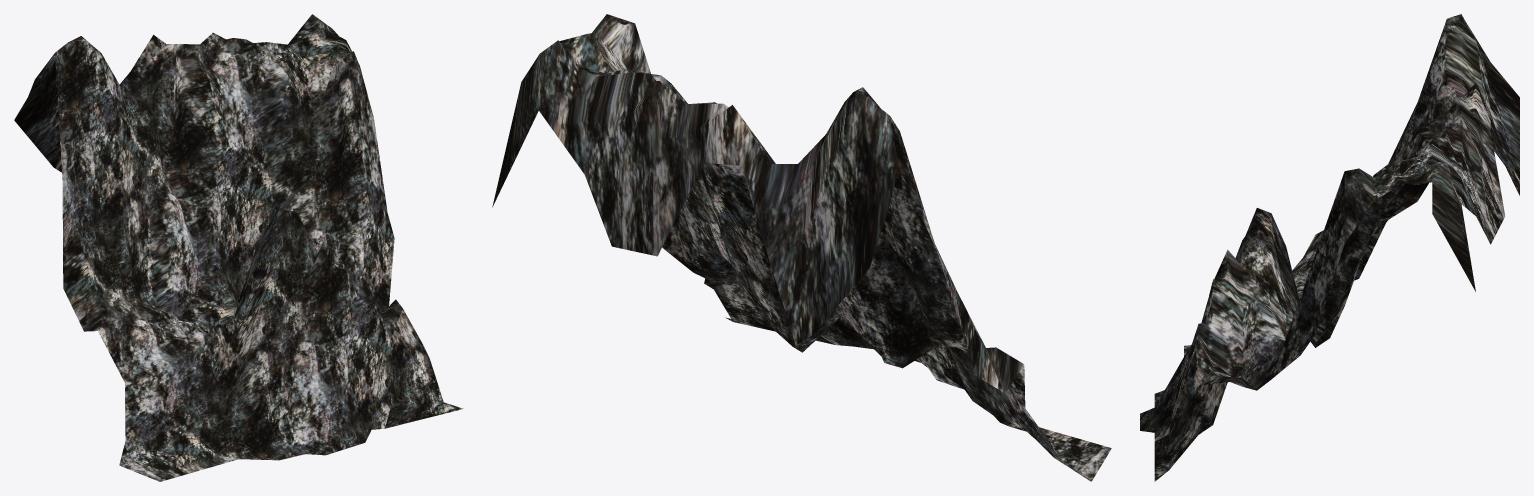
File: OVERHILL_A_01_OBJECT12.fbx
3 views of the same model, side by side, from view 1: azimuth 30°, elevation 25°; view 2: azimuth 150°, elevation 25°; view 3: azimuth 270°, elevation 25° (orthographic). The views are drawn at different scales.
Visible parts, largest first — view 1: OVERHILL_A_01_OBJECT12; view 2: OVERHILL_A_01_OBJECT12; view 3: OVERHILL_A_01_OBJECT12.
Part boxes in pixels (x1,y1,x2,y2): OVERHILL_A_01_OBJECT12: (14,14,463,481); OVERHILL_A_01_OBJECT12: (492,14,1111,481); OVERHILL_A_01_OBJECT12: (1140,14,1519,481).
Size of the model in its own units: 328786 by 335443 by 324096.
1 material, 1 textured.
